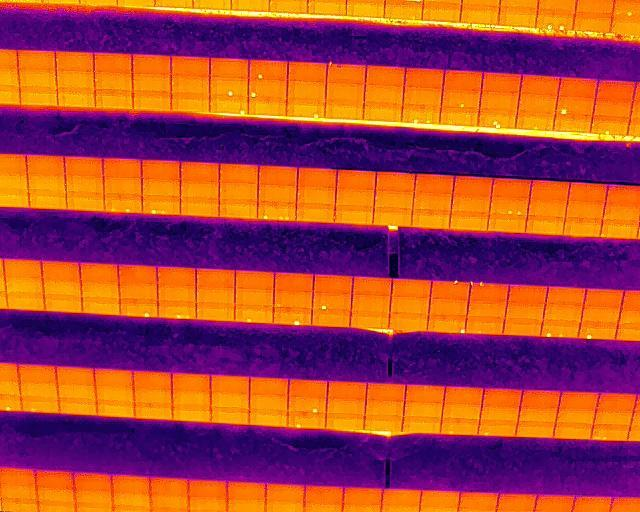panel: (297, 167, 337, 188), (249, 60, 288, 81), (366, 65, 405, 86), (327, 63, 367, 83), (443, 71, 483, 91), (18, 49, 56, 70), (142, 159, 181, 179), (337, 170, 376, 190), (235, 270, 274, 290), (6, 291, 45, 311), (266, 485, 305, 505), (304, 486, 343, 506), (56, 52, 95, 72), (210, 59, 249, 79), (507, 284, 548, 303), (570, 182, 607, 203), (181, 161, 219, 181), (259, 166, 297, 186), (453, 176, 493, 195), (94, 52, 132, 72), (558, 79, 598, 98), (288, 81, 326, 101), (325, 83, 365, 102), (220, 164, 259, 183), (376, 172, 415, 191), (530, 180, 569, 199), (573, 11, 612, 30), (219, 200, 258, 219), (600, 220, 639, 239), (196, 269, 235, 288), (353, 277, 392, 296), (274, 308, 313, 327), (171, 58, 210, 77), (18, 70, 57, 89), (133, 73, 172, 92), (19, 87, 58, 106), (492, 178, 529, 198), (537, 10, 574, 30), (406, 69, 443, 89), (555, 98, 596, 116), (458, 494, 499, 512), (518, 94, 556, 113), (461, 4, 499, 23), (498, 7, 536, 26), (415, 174, 453, 193), (67, 192, 105, 211), (564, 218, 602, 237), (44, 294, 82, 313), (289, 378, 327, 397), (189, 480, 227, 499), (0, 487, 38, 506), (288, 63, 326, 82), (171, 76, 209, 95), (593, 98, 633, 116), (390, 297, 430, 315), (597, 394, 637, 412), (496, 494, 536, 512), (596, 80, 636, 98), (423, 1, 460, 20), (483, 75, 520, 94), (386, 1, 423, 20), (133, 92, 172, 110), (402, 105, 441, 123), (66, 174, 105, 192), (142, 196, 181, 214), (490, 197, 529, 215), (526, 216, 565, 234), (119, 266, 158, 284), (275, 275, 314, 293), (314, 276, 353, 294), (392, 279, 431, 297), (81, 280, 120, 298), (431, 281, 470, 299), (313, 293, 352, 311), (352, 295, 391, 313), (430, 298, 469, 316), (196, 303, 235, 321), (581, 306, 620, 324), (350, 311, 389, 329), (427, 315, 466, 333), (211, 374, 250, 392), (250, 376, 289, 394), (366, 382, 405, 400), (482, 389, 521, 407), (73, 474, 112, 492), (112, 476, 151, 494), (133, 55, 172, 73), (520, 77, 559, 95), (209, 79, 248, 97), (365, 86, 404, 104), (479, 93, 520, 110), (521, 390, 562, 407), (514, 420, 555, 437), (590, 425, 631, 442), (381, 490, 422, 507), (419, 491, 460, 508), (364, 104, 402, 122), (27, 156, 65, 174), (104, 159, 142, 177), (104, 177, 142, 195), (414, 193, 452, 211), (258, 203, 296, 221), (412, 210, 450, 228), (157, 267, 195, 285), (470, 283, 508, 301), (120, 285, 158, 303), (468, 300, 506, 318), (506, 303, 544, 321), (544, 304, 582, 322), (235, 306, 273, 324), (312, 310, 350, 328), (541, 321, 579, 339), (173, 373, 211, 391), (227, 484, 265, 502), (36, 489, 74, 507), (94, 73, 132, 91), (404, 87, 442, 105), (58, 89, 96, 107), (336, 190, 376, 207), (296, 206, 336, 223), (80, 263, 120, 280), (95, 91, 132, 109), (593, 116, 630, 134), (30, 191, 67, 209), (603, 203, 640, 221), (548, 286, 585, 304), (585, 289, 622, 307), (210, 97, 249, 114), (180, 182, 219, 199), (219, 183, 258, 200), (258, 185, 297, 202), (375, 191, 414, 208), (180, 199, 219, 216), (529, 199, 568, 216), (450, 212, 489, 229), (4, 259, 43, 276), (42, 277, 81, 294), (158, 286, 197, 303), (82, 298, 121, 315), (19, 365, 58, 382), (327, 381, 366, 398), (250, 394, 289, 411), (22, 396, 61, 413), (35, 472, 74, 489), (151, 478, 190, 495), (343, 488, 382, 505), (112, 494, 151, 511), (248, 81, 287, 98), (442, 91, 481, 108), (606, 184, 639, 204), (172, 95, 210, 112), (249, 99, 287, 116), (326, 102, 364, 119), (65, 157, 103, 174), (28, 174, 66, 191), (142, 179, 180, 196), (105, 195, 143, 212), (452, 195, 490, 212), (566, 202, 604, 219), (335, 207, 373, 224), (560, 391, 598, 408), (98, 401, 136, 418), (75, 492, 113, 509), (57, 72, 95, 89), (533, 497, 576, 512), (440, 108, 480, 124), (326, 398, 366, 414), (365, 400, 405, 416), (518, 406, 558, 422), (489, 215, 526, 232), (467, 318, 504, 335), (58, 367, 95, 384), (347, 0, 384, 17), (297, 189, 336, 205), (374, 209, 413, 225), (157, 302, 196, 318), (389, 314, 428, 330), (578, 324, 617, 340), (95, 370, 134, 386), (134, 373, 173, 389), (20, 382, 59, 398), (96, 386, 135, 402), (405, 386, 444, 402), (211, 392, 250, 408), (59, 399, 98, 415), (442, 403, 481, 419), (593, 410, 632, 426), (250, 411, 289, 427), (478, 420, 517, 436), (150, 496, 189, 512), (572, 497, 613, 512), (287, 101, 325, 117), (478, 111, 516, 127), (554, 116, 592, 132), (42, 261, 80, 277), (503, 320, 541, 336), (445, 387, 483, 403), (288, 397, 326, 413), (173, 405, 211, 421), (326, 414, 364, 430), (554, 423, 592, 439), (121, 302, 158, 318), (136, 404, 173, 420), (557, 408, 594, 424), (0, 471, 37, 487), (516, 113, 555, 128), (5, 276, 44, 291), (196, 288, 235, 303), (235, 290, 274, 305), (57, 384, 96, 399), (405, 402, 444, 417), (211, 409, 250, 424), (402, 418, 441, 433), (440, 420, 479, 435), (135, 389, 173, 404), (173, 390, 211, 405), (288, 413, 326, 428), (363, 416, 403, 430), (274, 293, 313, 307), (481, 406, 520, 420)
